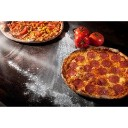pepperonipizza: (62, 48, 128, 99)
